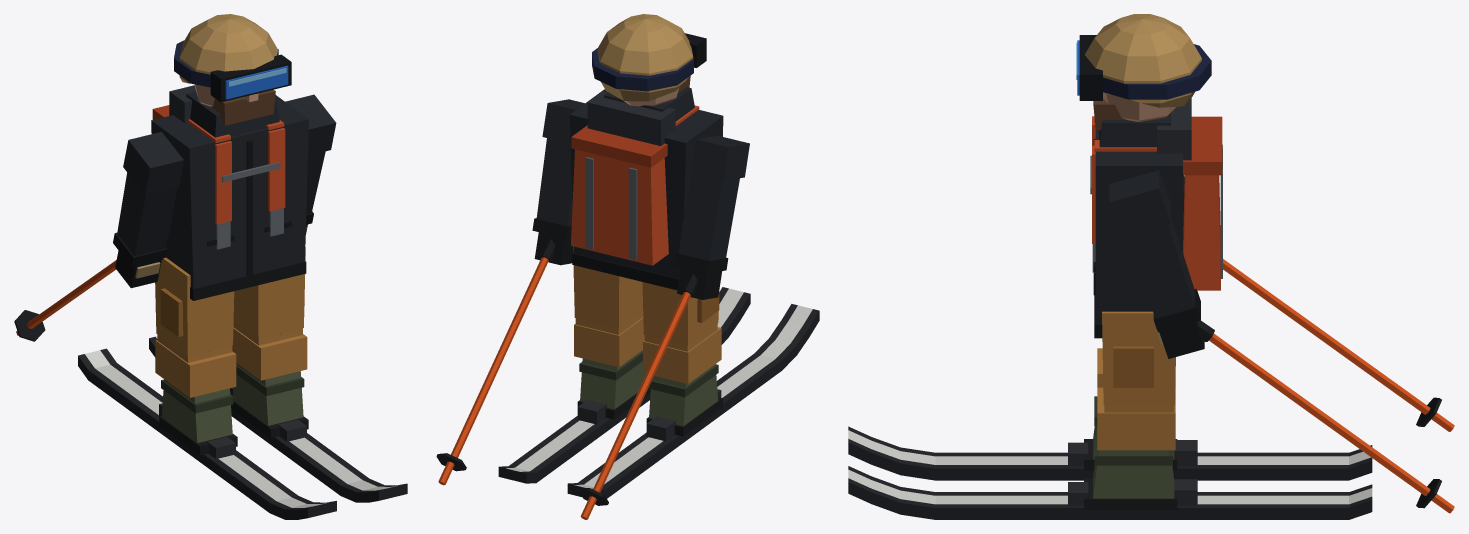
Rendered from skier.glb.
3 views of the same model, side by side, from view 1: azimuth 30°, elevation 25°; view 2: azimuth 150°, elevation 25°; view 3: azimuth 270°, elevation 25° (orthographic). The views are drawn at different scales.
Parts seen in each view (by area): view 1: Torso, Thighs, ArmL, SkiL, Boots, Shins, SkiR, ArmR, PoleL; view 2: Torso, ArmL, SkiL, Thighs, Boots, Shins, SkiR, ArmR, PoleL, PoleR; view 3: Torso, SkiR, SkiL, ArmR, Thighs, Boots, Shins, PoleR, PoleL.
Boxes of the visible parts, <box> form: Torso: <box>151,14,308,300</box>; Thighs: <box>155,247,305,356</box>; ArmL: <box>113,132,183,288</box>; SkiL: <box>78,348,336,519</box>; Boots: <box>159,363,308,455</box>; Shins: <box>155,321,307,397</box>; SkiR: <box>149,336,407,502</box>; ArmR: <box>285,94,336,234</box>; PoleL: <box>14,260,116,341</box>; Torso: <box>569,14,723,290</box>; ArmL: <box>675,135,749,299</box>; SkiL: <box>567,304,819,498</box>; Thighs: <box>573,246,719,345</box>; Boots: <box>577,350,722,436</box>; Shins: <box>574,311,721,383</box>; SkiR: <box>498,287,750,483</box>; ArmR: <box>532,99,584,265</box>; PoleL: <box>578,273,697,519</box>; PoleR: <box>436,239,555,485</box>; Torso: <box>1076,14,1222,338</box>; SkiR: <box>848,466,1372,519</box>; SkiL: <box>848,426,1372,480</box>; ArmR: <box>1109,170,1204,358</box>; Thighs: <box>1102,311,1175,405</box>; Boots: <box>1084,396,1177,509</box>; Shins: <box>1097,348,1175,450</box>; PoleR: <box>1197,320,1454,513</box>; PoleL: <box>1223,259,1454,431</box>.
Size of the model in its own units: 0.84 by 1.79 by 2.08.
